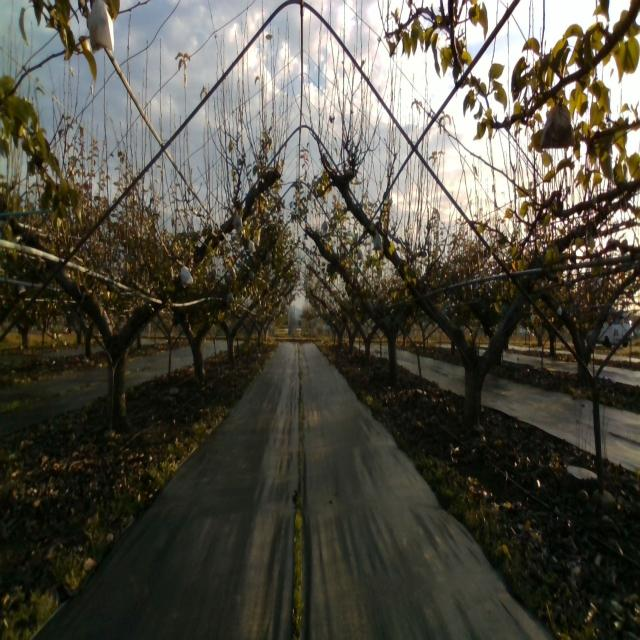pearbags: (539, 94, 577, 150), (87, 0, 115, 54), (179, 261, 194, 289), (371, 229, 384, 252)
